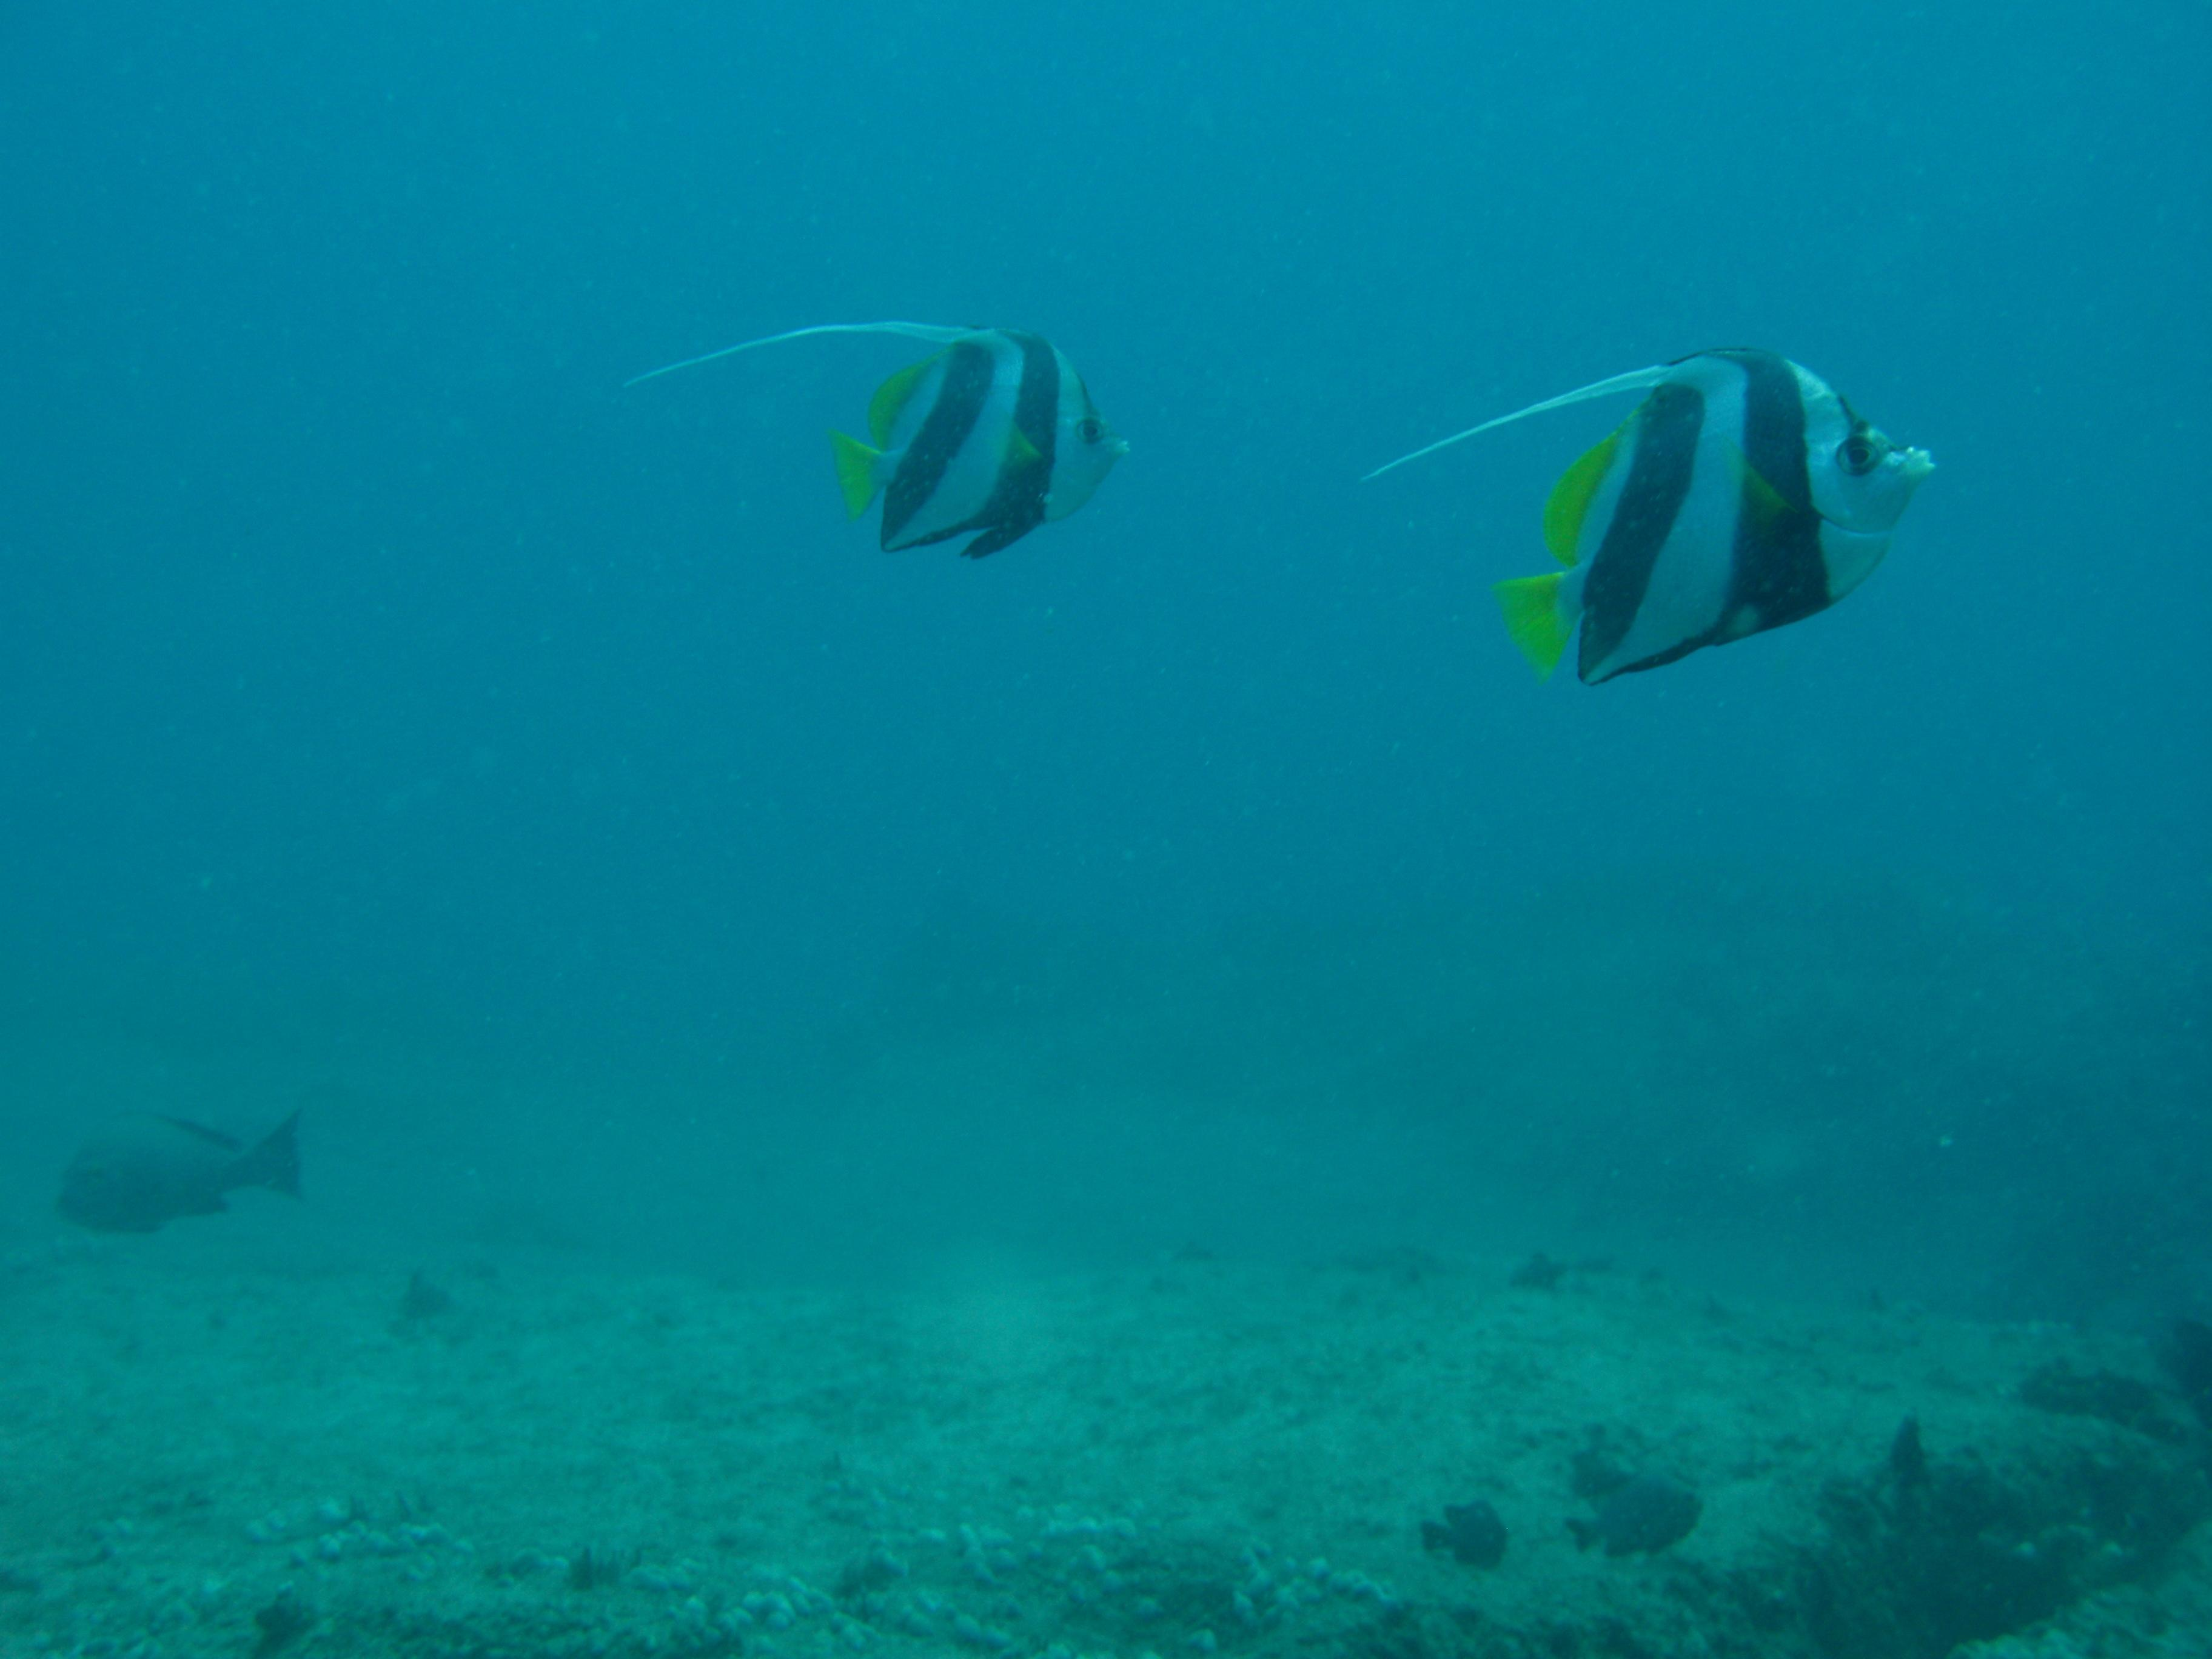Heniochus acuminatus: (1343, 335, 2001, 744), (585, 279, 1183, 652)
